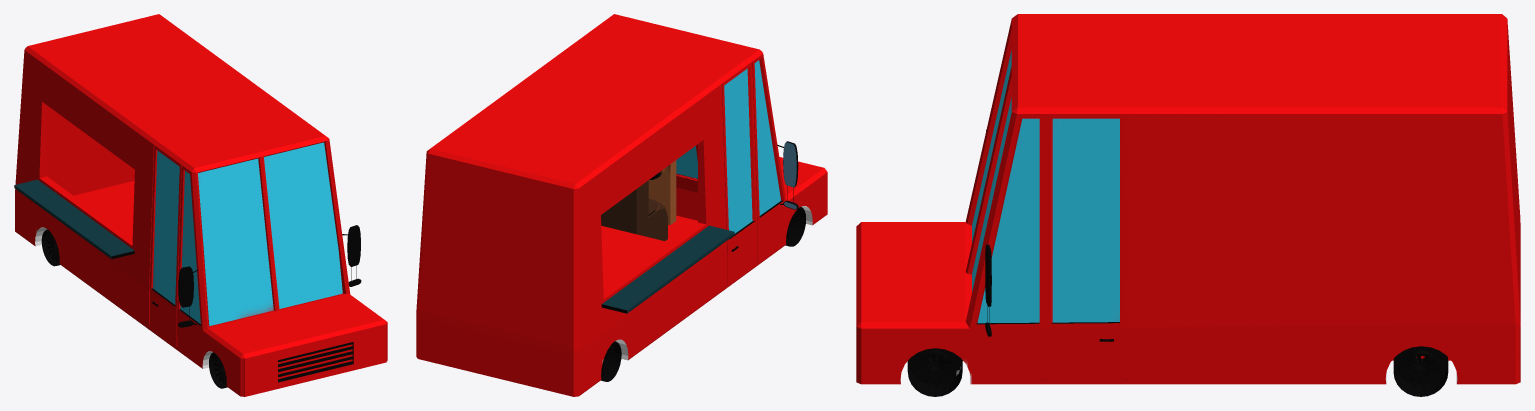
File: food_truck_v3.glb
The picture shows the model from 3 angles, left to right: view 1: azimuth 30°, elevation 25°; view 2: azimuth 150°, elevation 25°; view 3: azimuth 270°, elevation 25°; orthographic projection. The views are drawn at different scales.
Visible parts, largest first — view 1: Cube; view 2: Cube, Steering Wheel; view 3: Cube.
Part boxes in pixels (<box>): Cube: <box>14,14,387,396</box>; Cube: <box>416,14,827,396</box>; Steering Wheel: <box>601,160,676,240</box>; Cube: <box>856,14,1520,396</box>.
Size of what is drawn, in the model's own units: 3.78 by 3.81 by 8.
2 materials, 2 textured.
